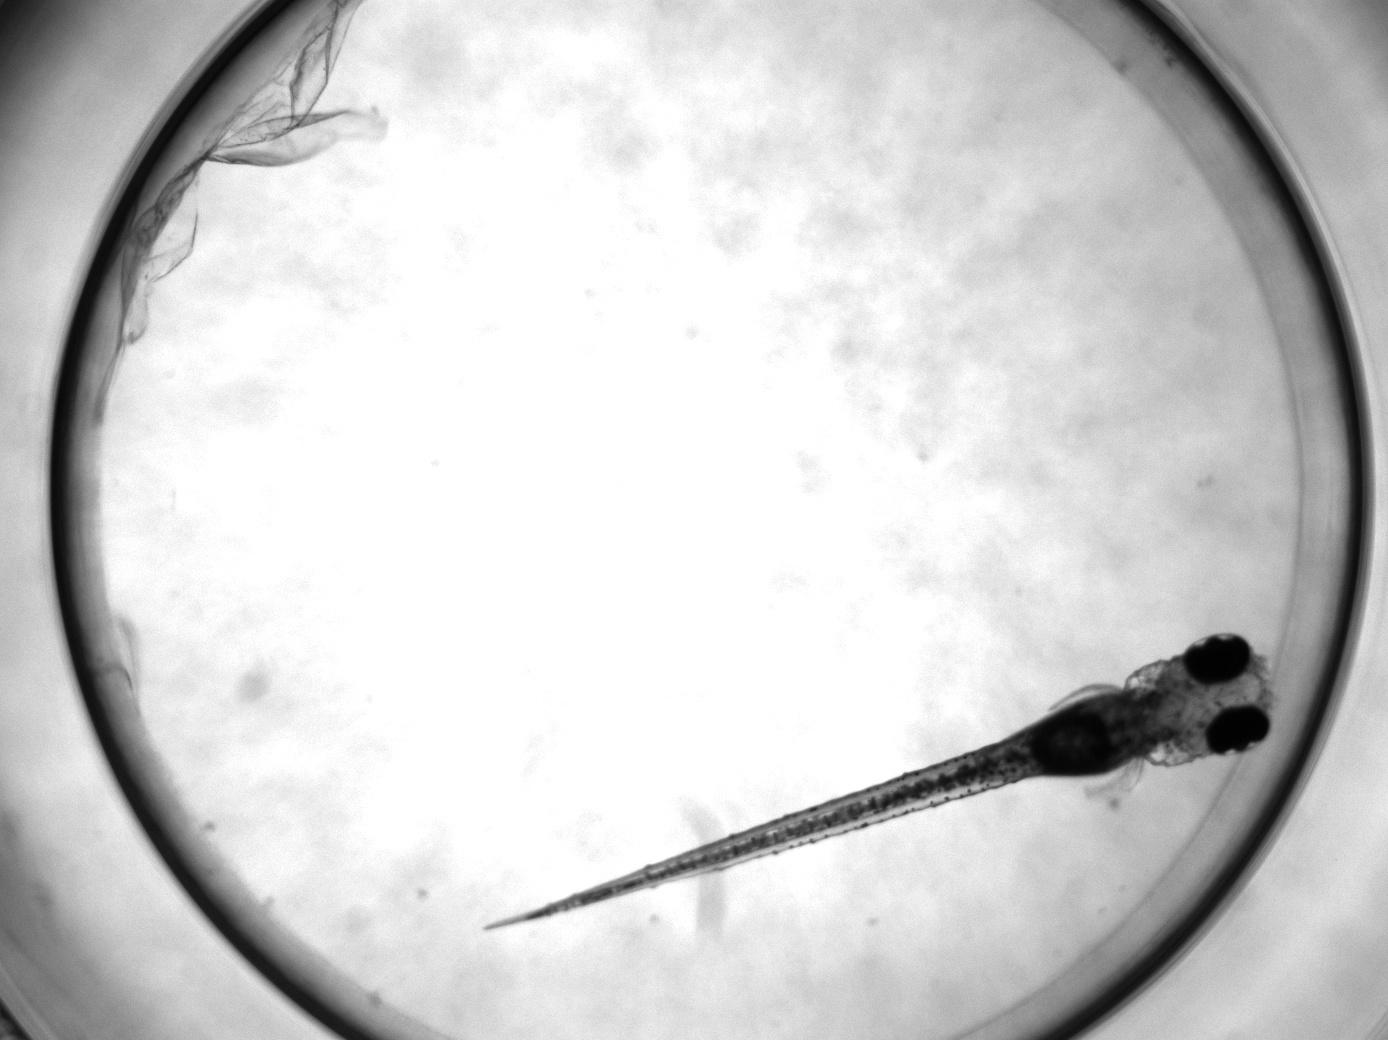embryo: (483, 634, 1278, 931)
eye: (1205, 706, 1272, 758), (1183, 634, 1250, 684)
yolksac: (1027, 679, 1148, 783)
